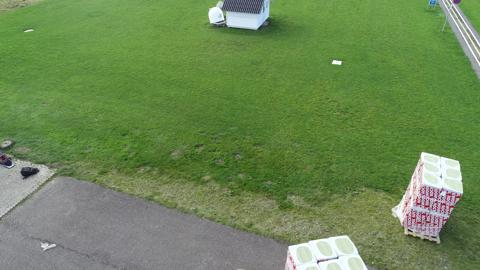RockwoolPallet: (285, 232, 369, 269)
